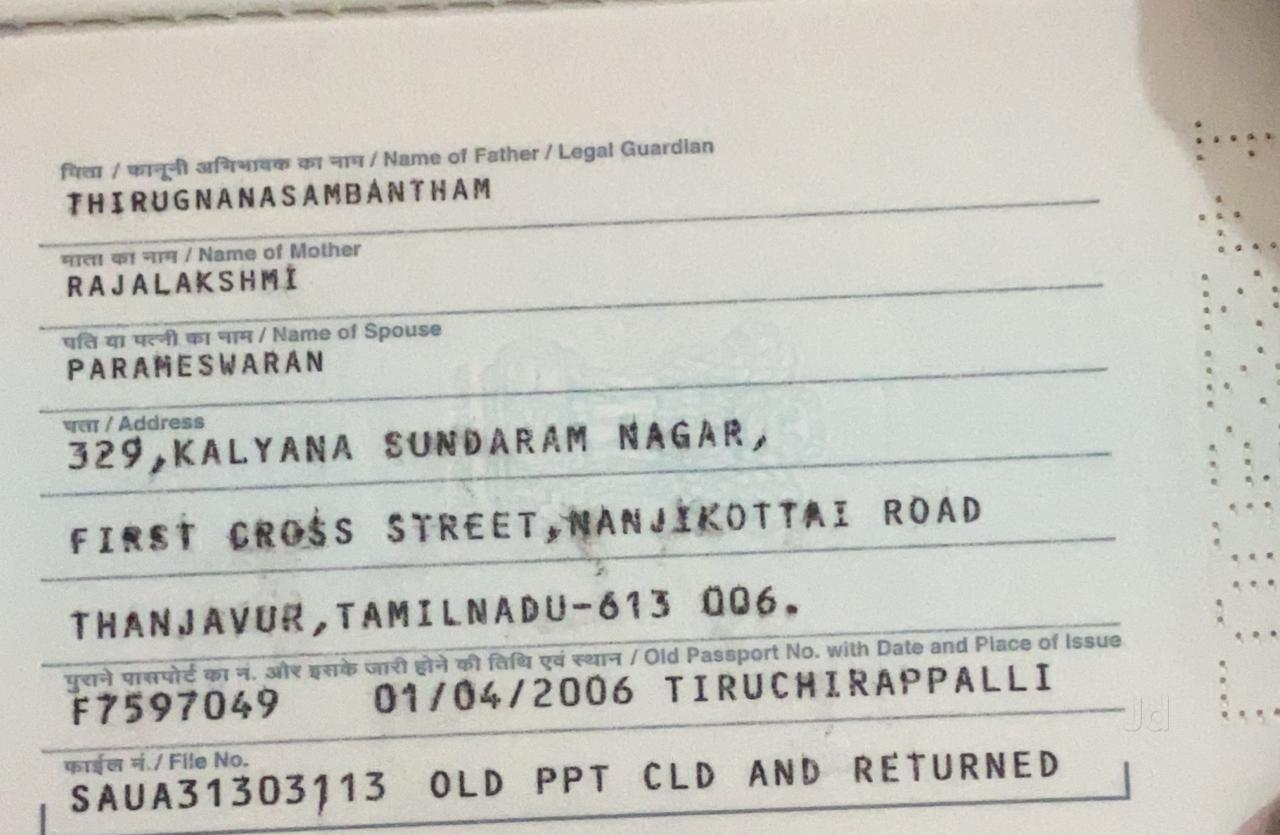File_no: (56, 768, 398, 824)
address: (46, 402, 1018, 660)
father_name: (47, 170, 516, 230)
mother_name: (52, 252, 334, 305)
old_passport_details: (40, 648, 1090, 745)
spouse_name: (54, 348, 364, 386)
